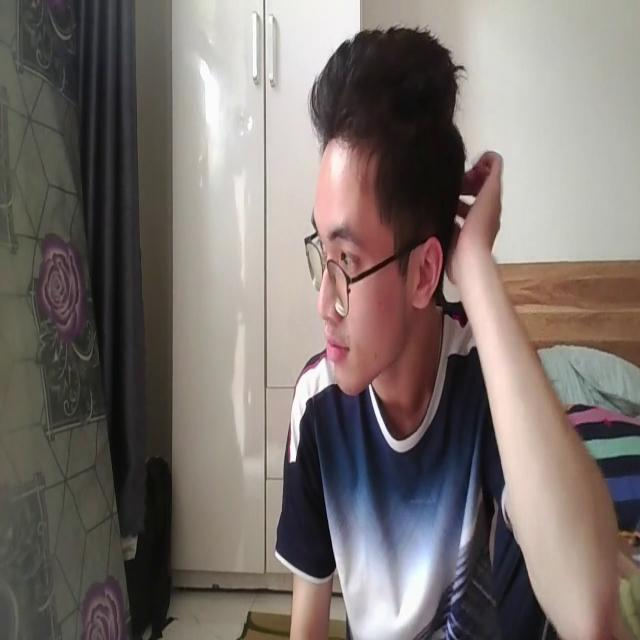student: (275, 17, 622, 640)
